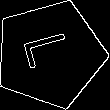L_E: (20, 32, 80, 76)
